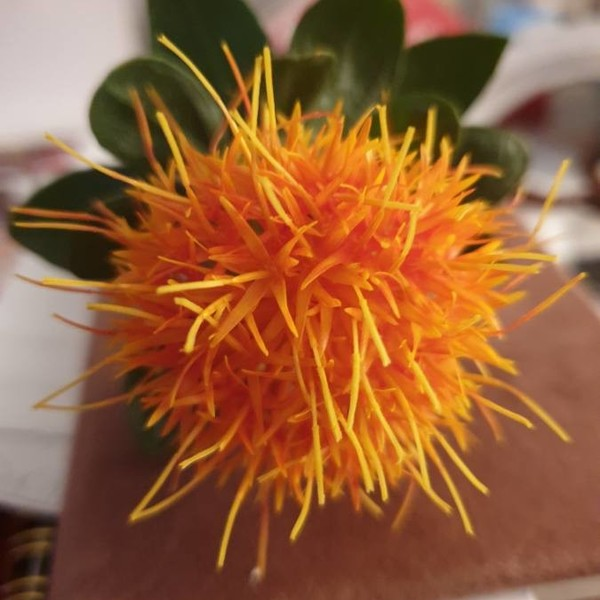obstacle: (107, 57, 533, 547)
